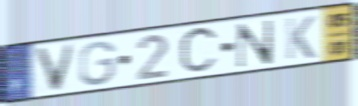2: (135, 33, 169, 82)
C: (177, 24, 220, 79)
G: (77, 39, 118, 88)
K: (284, 14, 317, 62)
N: (235, 18, 275, 70)
V: (33, 41, 79, 94)
